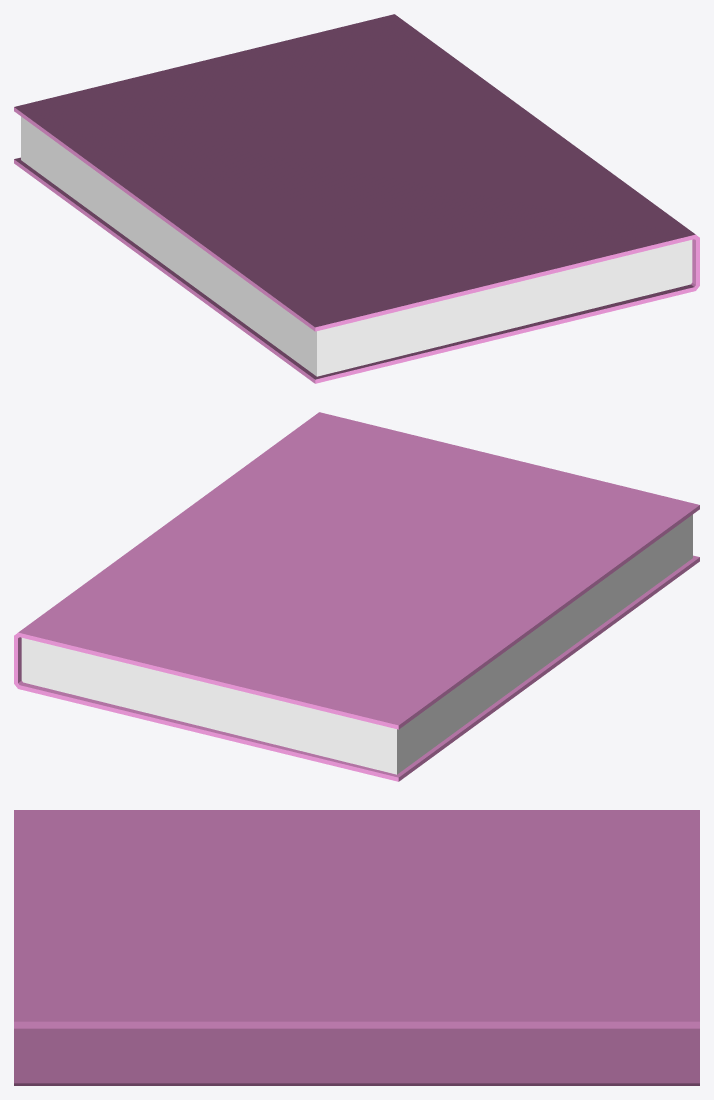
File: Book 5.fbx
The picture shows the model from 3 angles, top to bottom: view 1: azimuth 30°, elevation 25°; view 2: azimuth 150°, elevation 25°; view 3: azimuth 270°, elevation 25°; orthographic projection. The views are drawn at different scales.
Visible parts, largest first — view 1: Node 0; view 2: Node 0; view 3: Node 0.
Part boxes in pixels (left/top/right/bottom): Node 0: left=14, top=14, right=699, bottom=383; Node 0: left=14, top=412, right=699, bottom=781; Node 0: left=14, top=810, right=699, bottom=1085.
Bounding box in the file's own units: 0.2956 × 0.0306 × 0.218.
